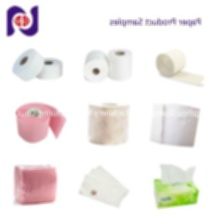tissue: (145, 96, 205, 149), (149, 157, 206, 212), (74, 159, 134, 210), (11, 96, 72, 146), (151, 43, 209, 90), (83, 95, 134, 148), (9, 158, 61, 208), (9, 45, 47, 85), (80, 46, 113, 85), (105, 45, 135, 83), (31, 55, 67, 82)
